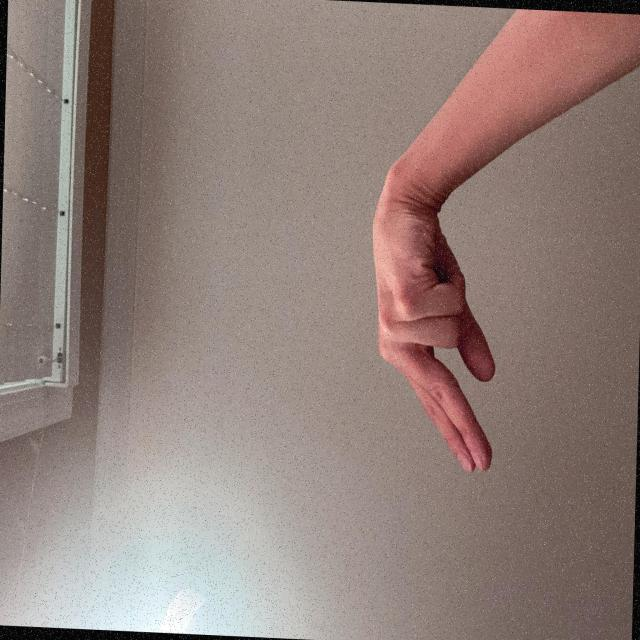H: (113, 475, 369, 640)
